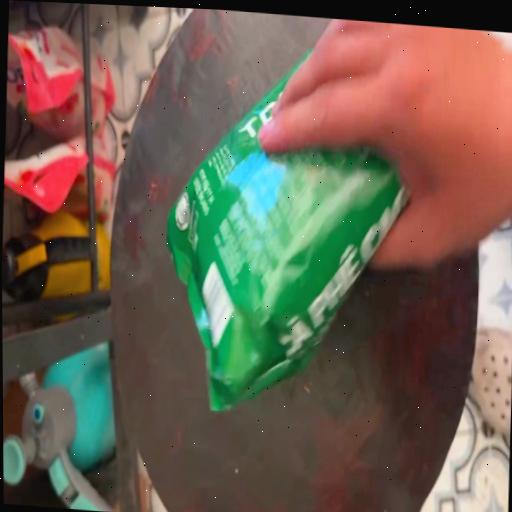cafe_xay: (167, 50, 406, 409)
